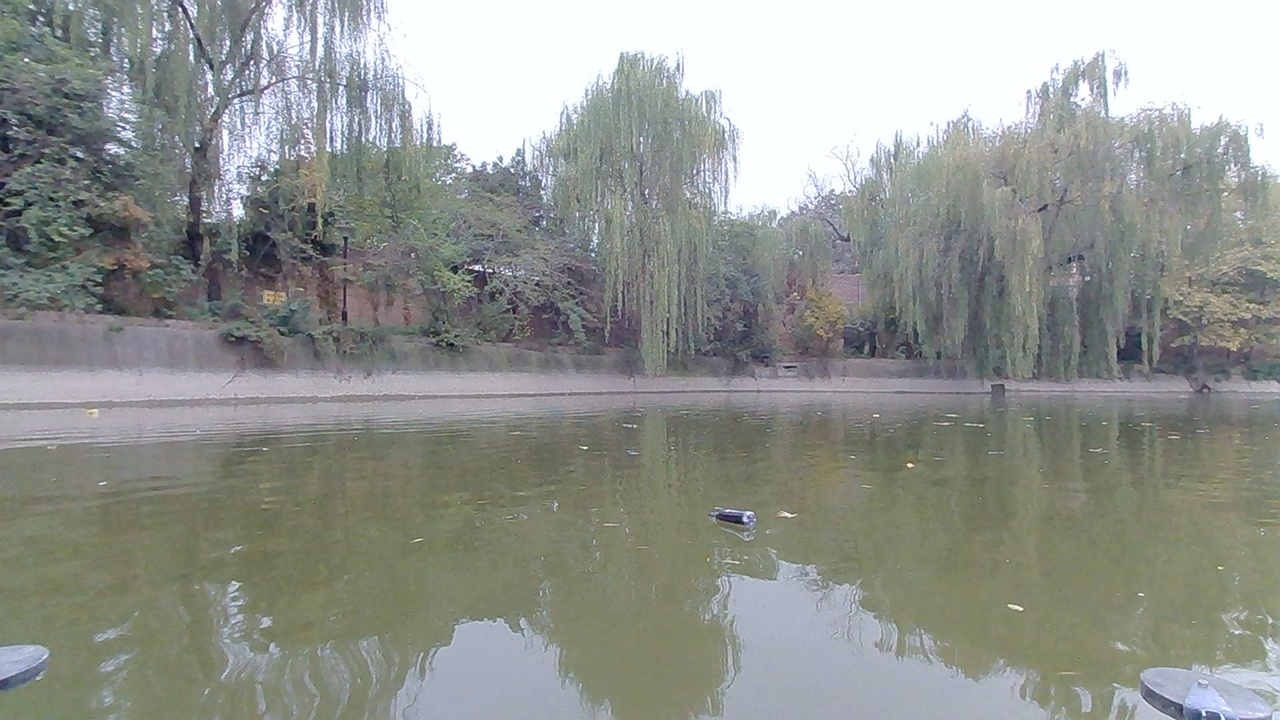bottle: (711, 503, 765, 537)
